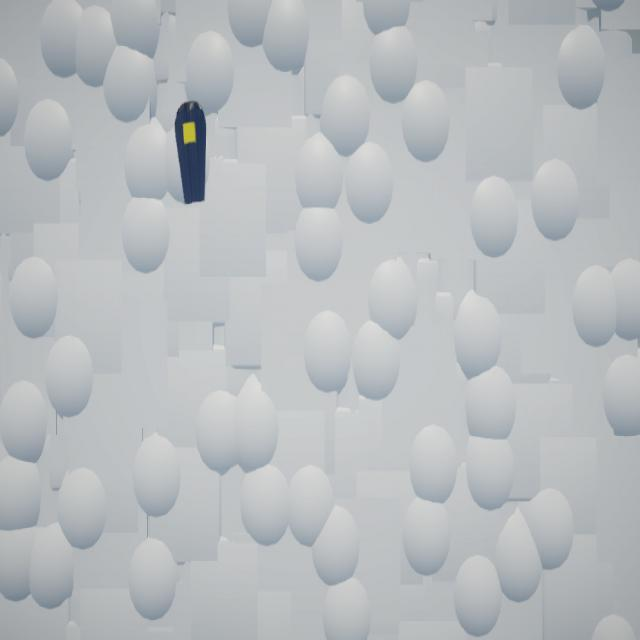handle_folk: (175, 101, 208, 206)
